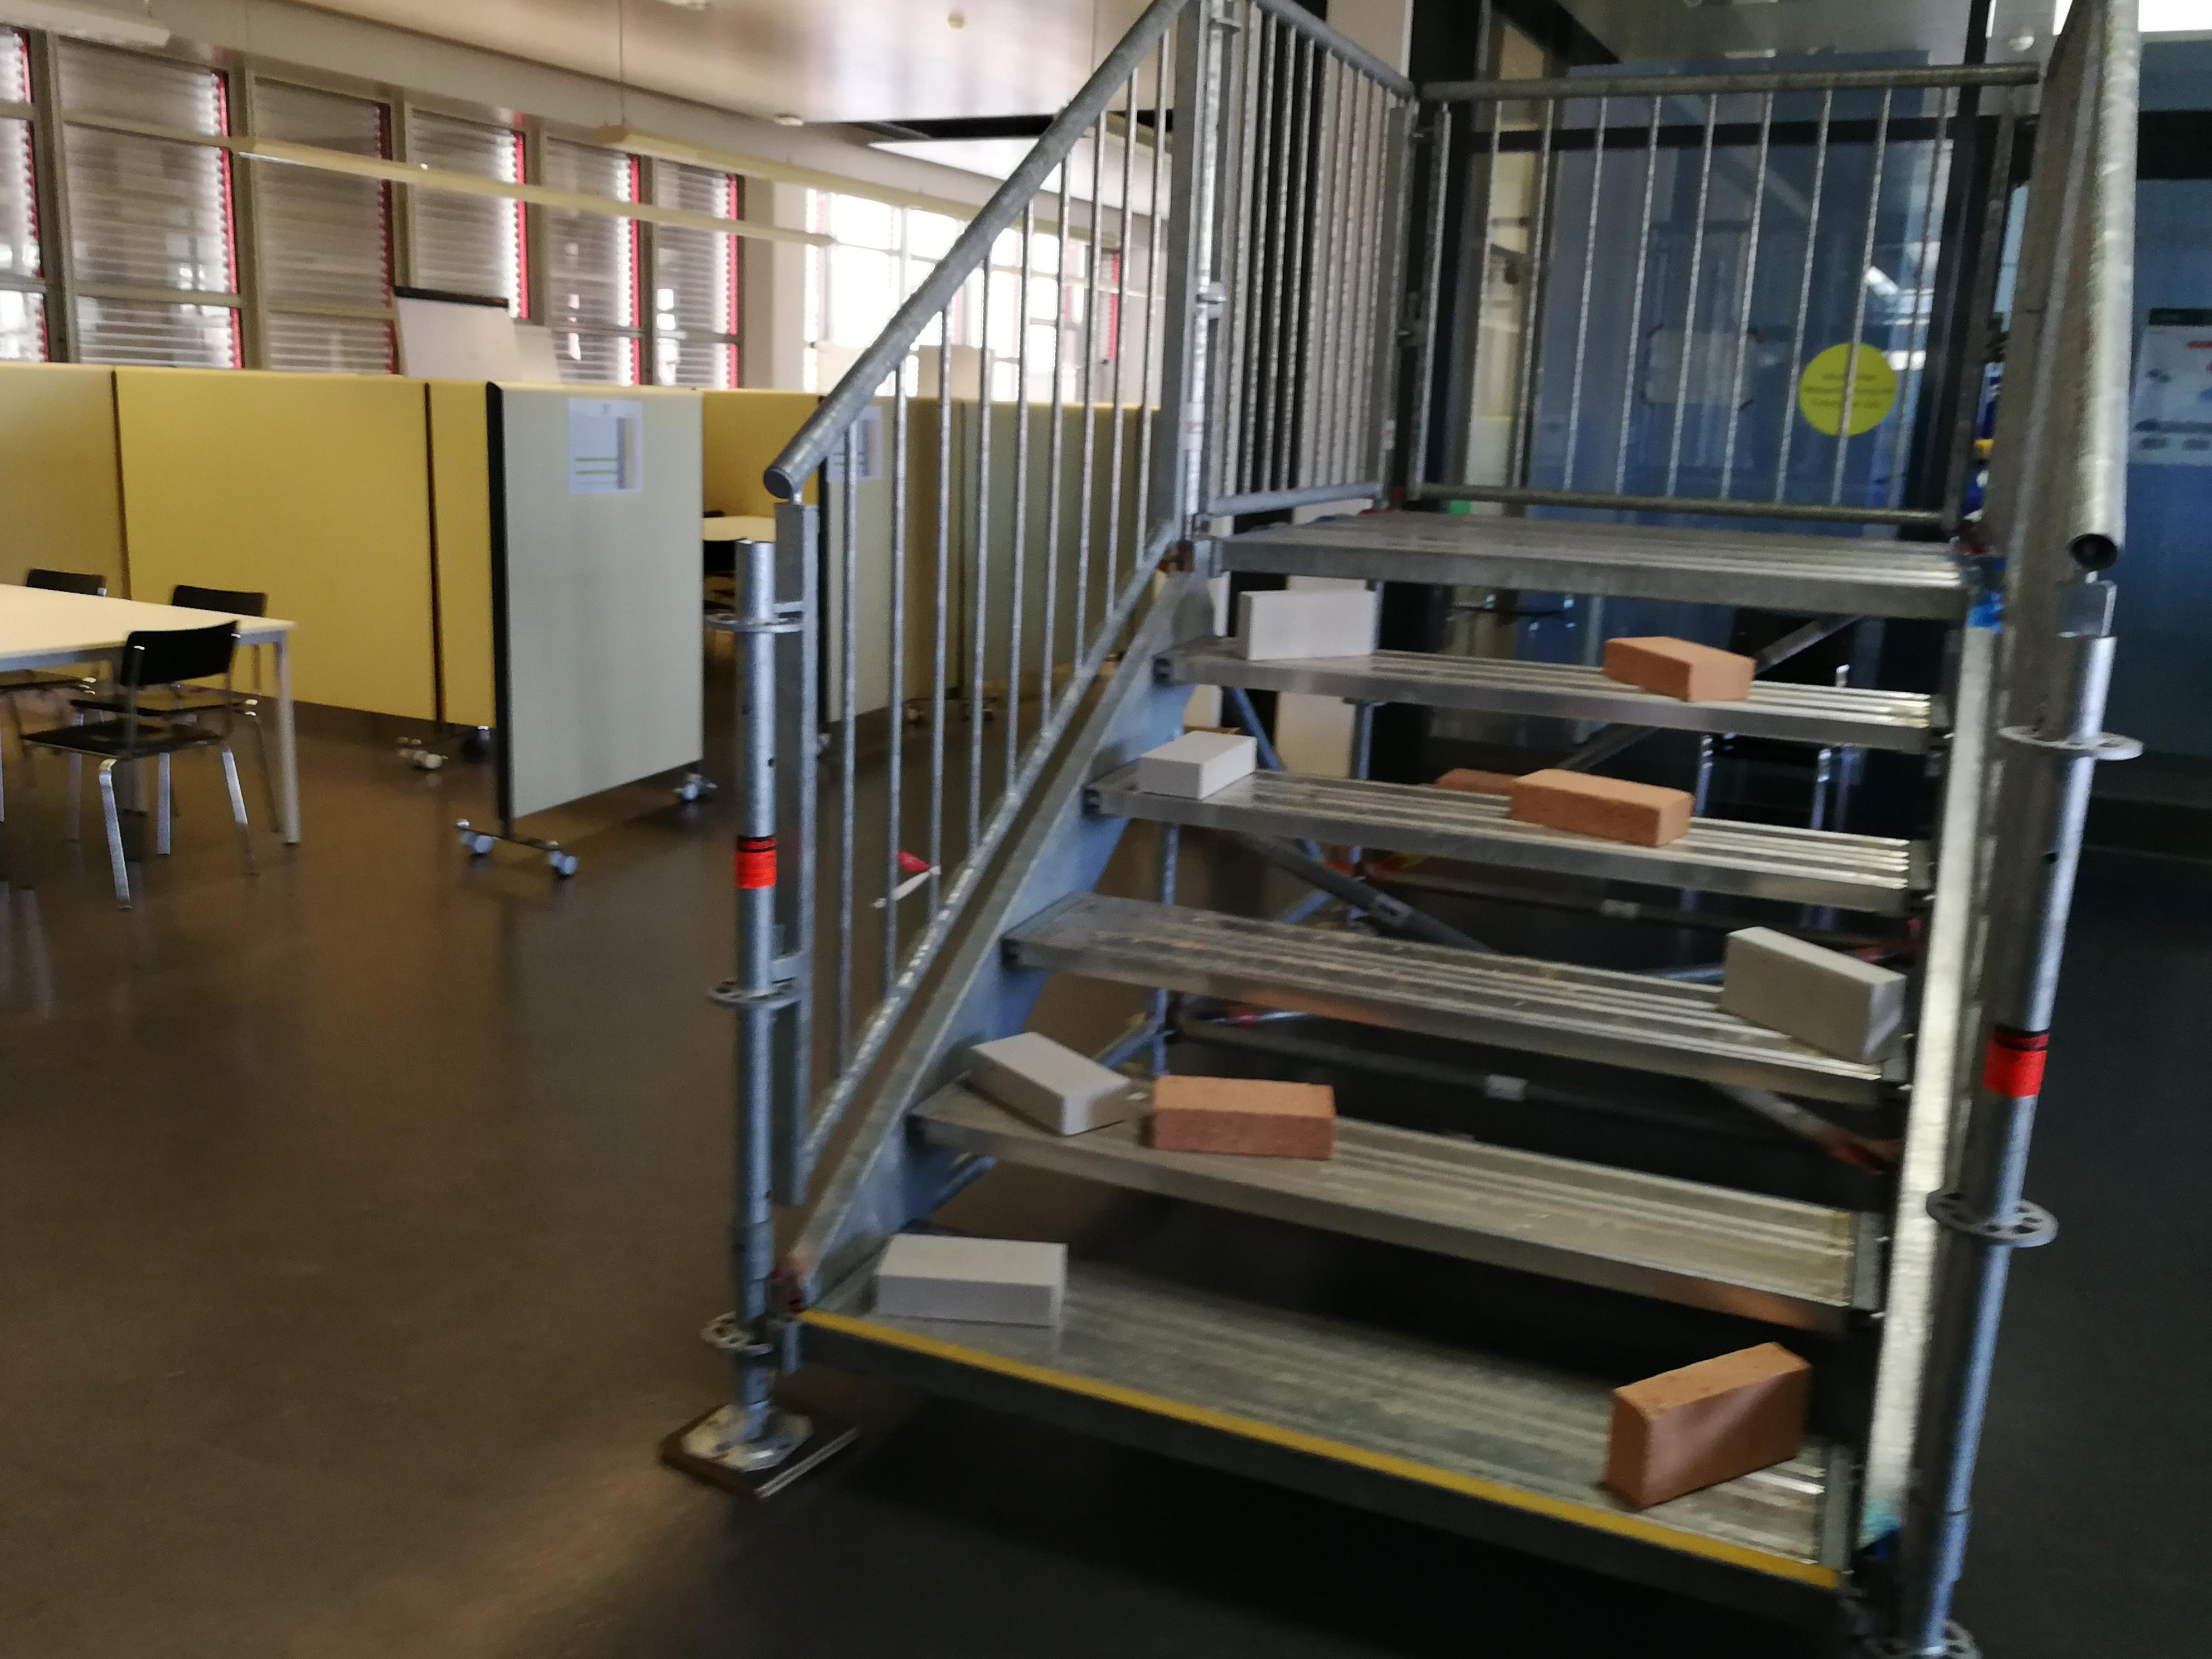brick: (1604, 1344, 1806, 1500), (1721, 927, 1902, 1063), (963, 1033, 1125, 1133), (869, 1239, 1061, 1319), (1155, 1077, 1331, 1161), (1512, 770, 1688, 845), (1604, 638, 1754, 704), (1240, 592, 1371, 657), (1143, 737, 1254, 789)
edge: (801, 1319, 1844, 1643), (902, 1103, 1883, 1349), (998, 911, 1912, 1119), (1085, 772, 1933, 938), (1223, 498, 1959, 653), (1151, 619, 1952, 758)
stairs: (658, 2, 2139, 1649)
steps: (772, 488, 1970, 1649)
